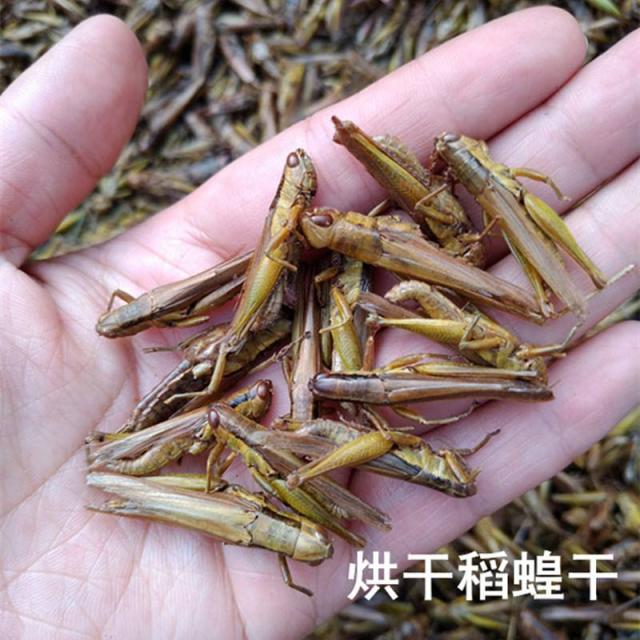ZhaMeng: (71, 460, 342, 584), (294, 201, 552, 329), (246, 134, 321, 350)
